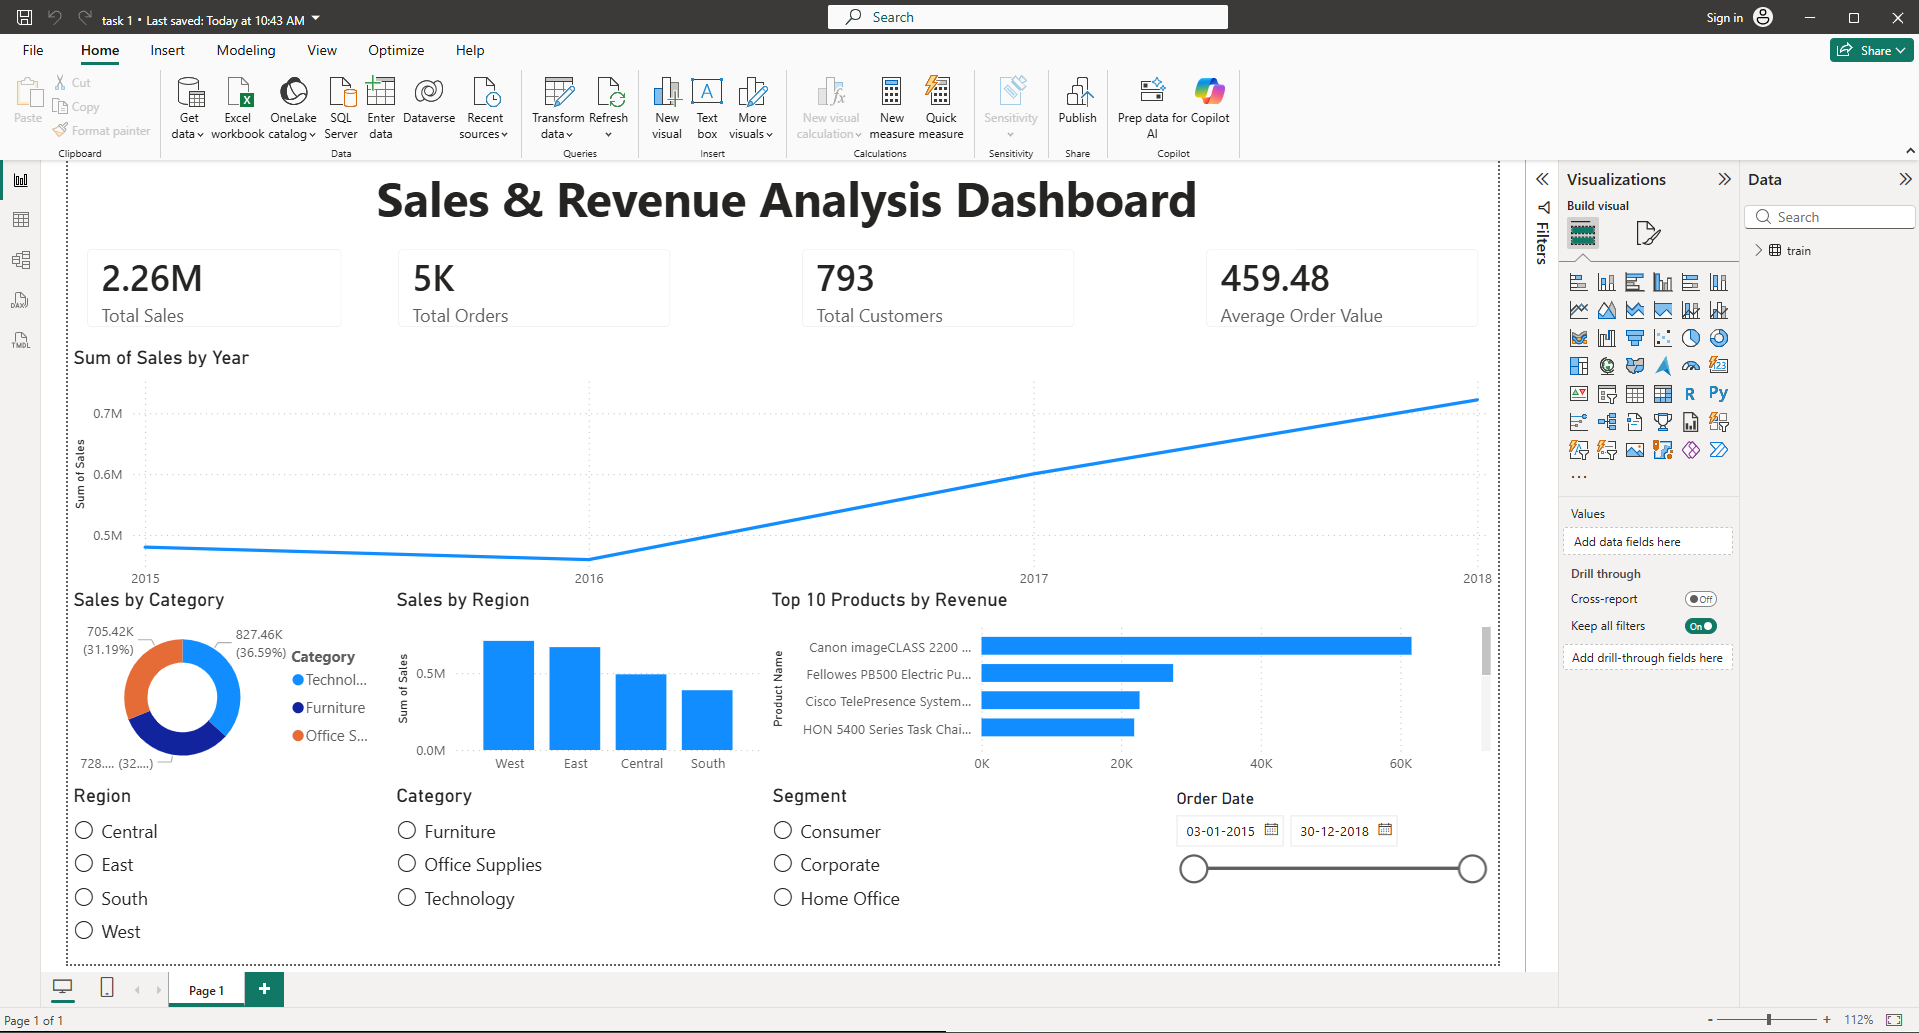

The dashboard page shown, as its layout file describes it:
{"tool":"powerbi","page":{"name":"Page 1","canvas":[1280,720],"ordinal":0},"visuals":[{"type":"cardVisual","fields":{"Data":["train.Total Sales"]},"box":[0,62.5,262.6,104.1],"z":0},{"type":"cardVisual","fields":{"Data":["train.Total Orders"]},"box":[278.2,62.5,278.2,104.1],"z":1000},{"type":"cardVisual","fields":{"Data":["train.Total Customers"]},"box":[640,62.5,278.2,104.1],"z":2000},{"type":"cardVisual","fields":{"Data":["train.Average Order Value"]},"box":[1001.8,62.5,278.2,104.1],"z":3000},{"type":"lineChart","fields":{"Category":["train.Order Date.Variation.Date Hierarchy.Year","train.Order Date.Variation.Date Hierarchy.Quarter","train.Order Date.Variation.Date Hierarchy.Month","train.Order Date.Variation.Date Hierarchy.Day"],"Y":["Sum(train.Sales)"]},"box":[0,166.6,1280,235.4],"z":4000},{"type":"donutChart","title":"Sales by Category","fields":{"Category":["train.Category"],"Y":["Sum(train.Sales)"]},"box":[0,383.5,288.9,175.1],"z":5000},{"type":"clusteredColumnChart","title":"Sales by Region","fields":{"Category":["train.Region"],"Y":["Sum(train.Sales)"]},"box":[288.9,383.5,336.5,175.1],"z":6000},{"type":"barChart","title":"Top 10 Products by Revenue","fields":{"Category":["train.Product Name"],"Y":["Sum(train.Sales)"]},"box":[625.4,383.5,653.6,175.1],"z":7000},{"type":"listSlicer","fields":{"Values":["train.Region"]},"box":[0,558.5,213,161.5],"z":8000},{"type":"listSlicer","fields":{"Values":["train.Category"]},"box":[288.9,558.5,337.5,161.5],"z":9000},{"type":"listSlicer","fields":{"Values":["train.Segment"]},"box":[626.4,558.5,354,161.5],"z":10000},{"type":"textbox","box":[271.4,0,828.7,79.8],"z":11000},{"type":"slicer","fields":{"Values":["train.Order Date"]},"box":[980,559,299,161],"z":11001}]}

Visuals, with their boxes on the page's 1280x720 design canvas (x1, y1, x2, y2). These are canvas units, not pixel positions in the 1919x1033 screenshot, which may show the page scaled, cropped or inside an application window:
cardVisual - train.Total Sales: bbox=[0, 62, 263, 167]
cardVisual - train.Total Orders: bbox=[278, 62, 556, 167]
cardVisual - train.Total Customers: bbox=[640, 62, 918, 167]
cardVisual - train.Average Order Value: bbox=[1002, 62, 1280, 167]
lineChart - train.Order Date.Variation.Date Hierarchy.Year x train.Order Date.Variation.Date Hierarchy.Quarter: bbox=[0, 167, 1280, 402]
"Sales by Category" donutChart: bbox=[0, 384, 289, 559]
"Sales by Region" clusteredColumnChart: bbox=[289, 384, 625, 559]
"Top 10 Products by Revenue" barChart: bbox=[625, 384, 1279, 559]
listSlicer - train.Region: bbox=[0, 558, 213, 720]
listSlicer - train.Category: bbox=[289, 558, 626, 720]
listSlicer - train.Segment: bbox=[626, 558, 980, 720]
textbox: bbox=[271, 0, 1100, 80]
slicer - train.Order Date: bbox=[980, 559, 1279, 720]
